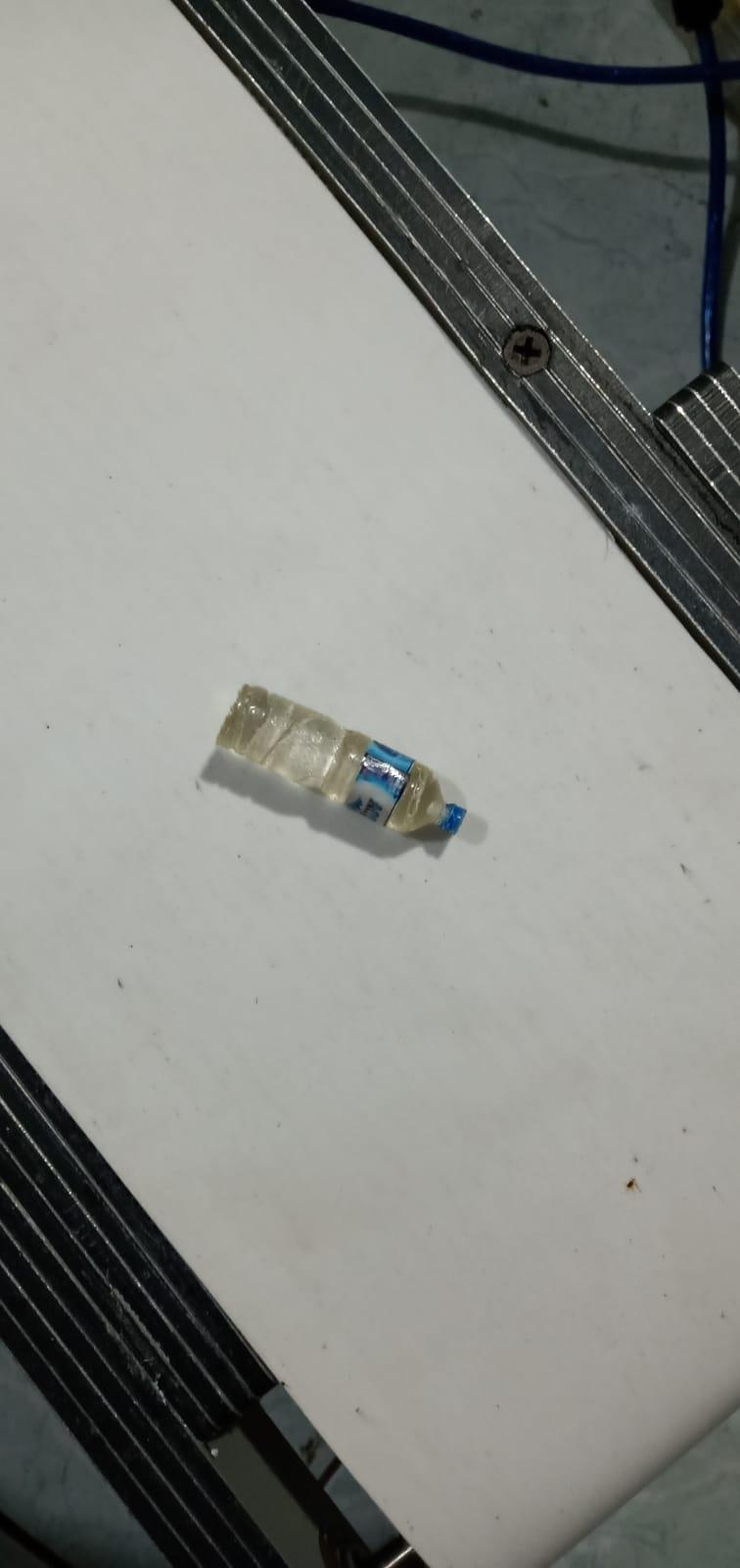Plastik: (214, 682, 467, 837)
